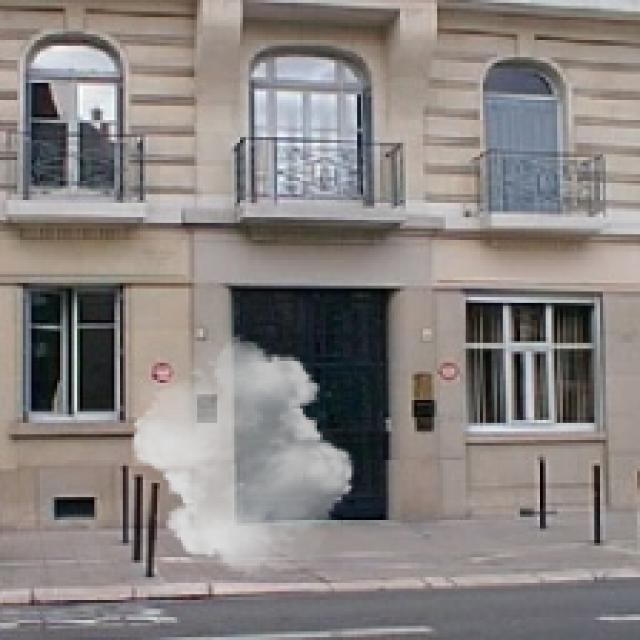Smoke: (123, 334, 363, 577)
